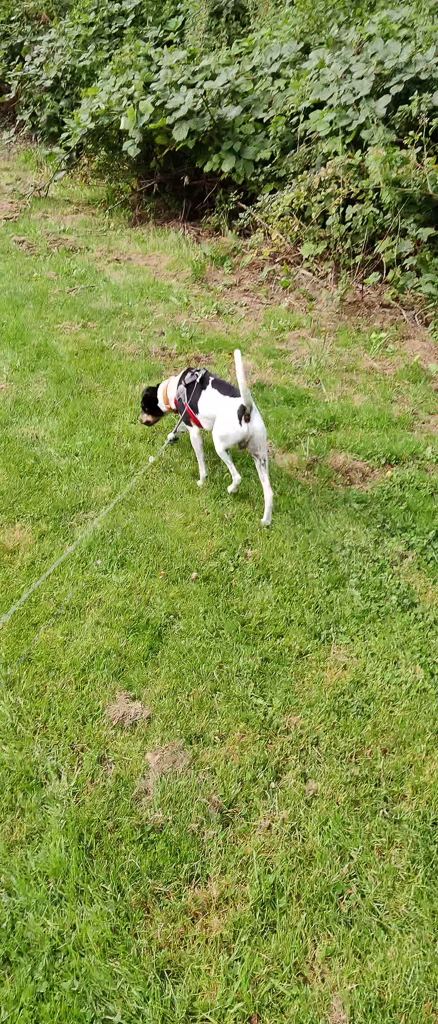Dog: (126, 330, 291, 538)
